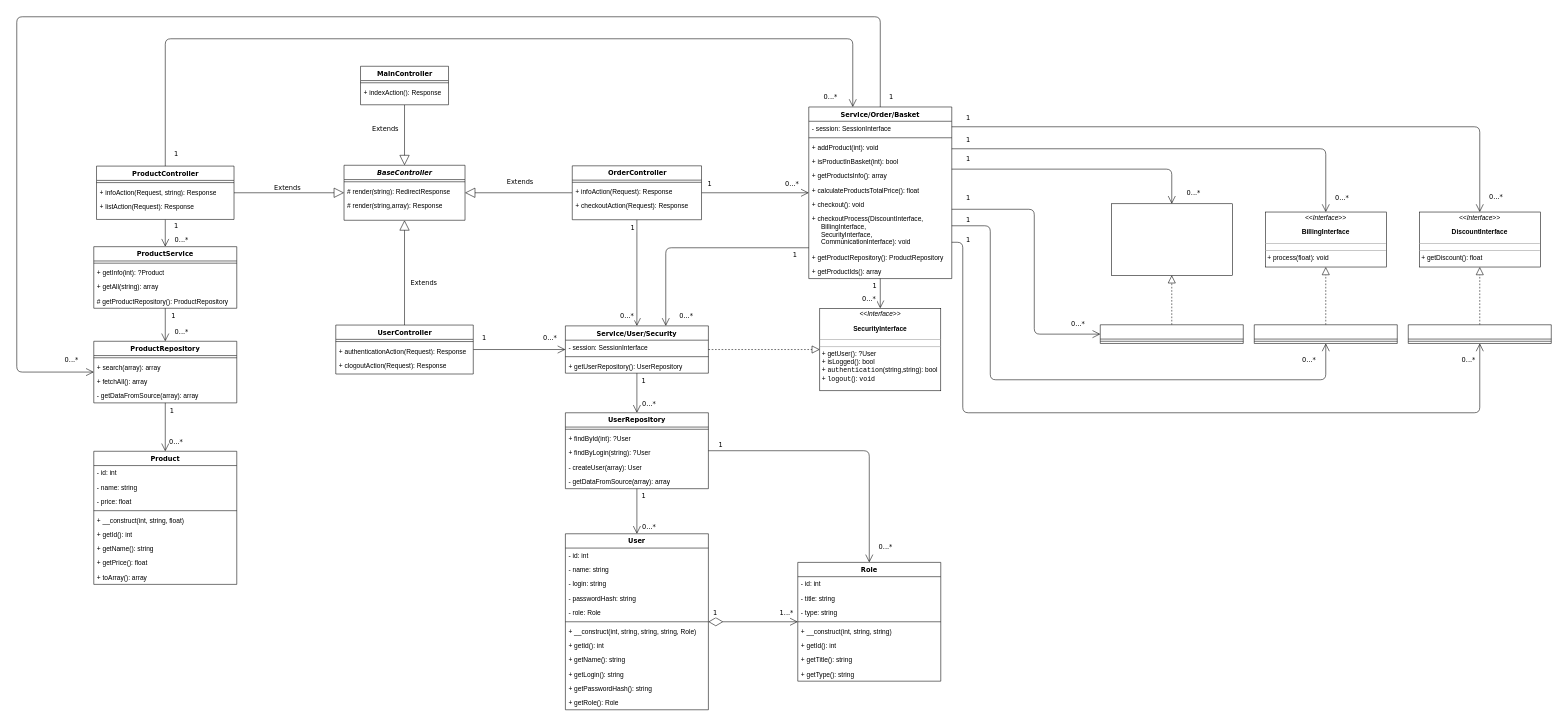
Some shapes in this 1561 by 721 pixel diagram are drawn without their labels. Here are the shapes that lost their labels. From the top down, the centre of each, then its label:
the point at 1171,239: <<Interface>> CommunicationInterface + process(User, string, array): void
the point at 1171,333: Email
the point at 1325,333: Card
the point at 1479,333: NullObject
